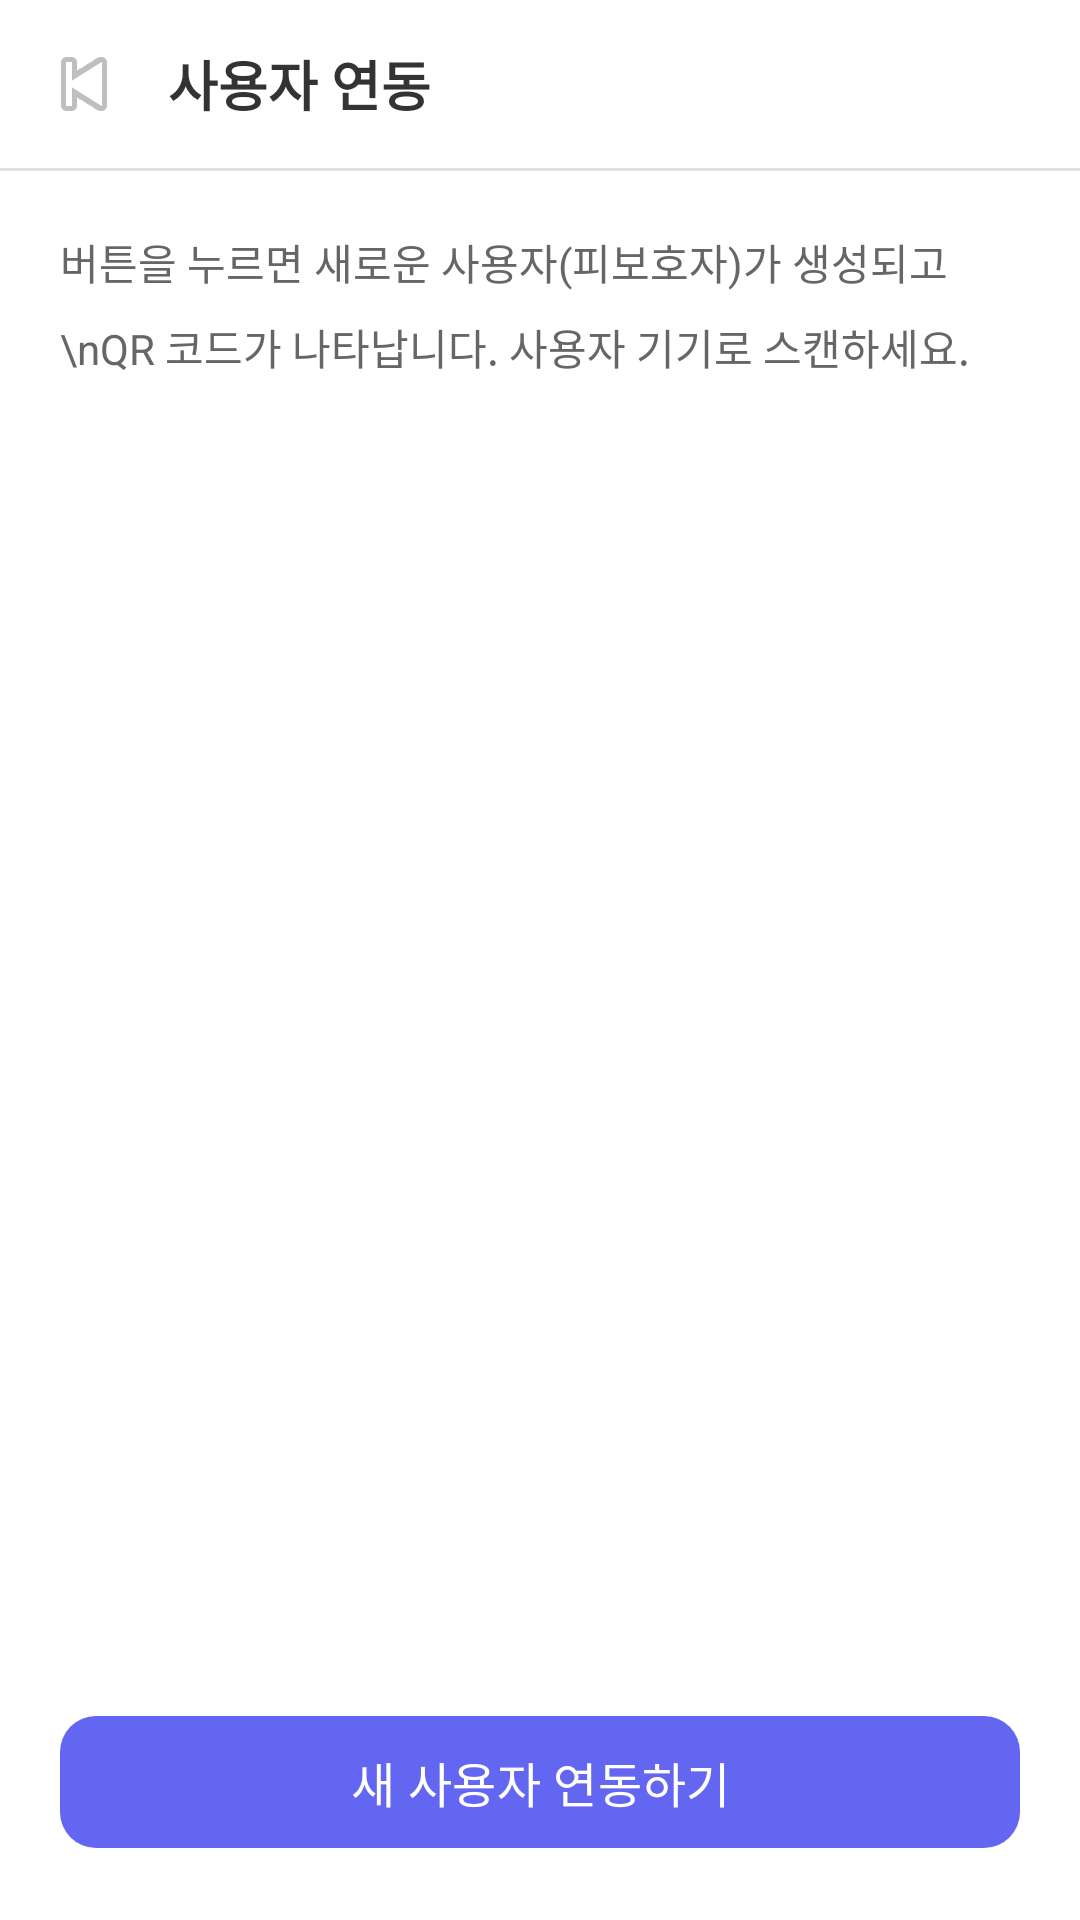

Screen size 1080w x 1920h. Icon name, then its box in pixels as (left=x1, top=y1, right=x2, bottom=y2):
뒤로: (left=61, top=57, right=107, bottom=111)
